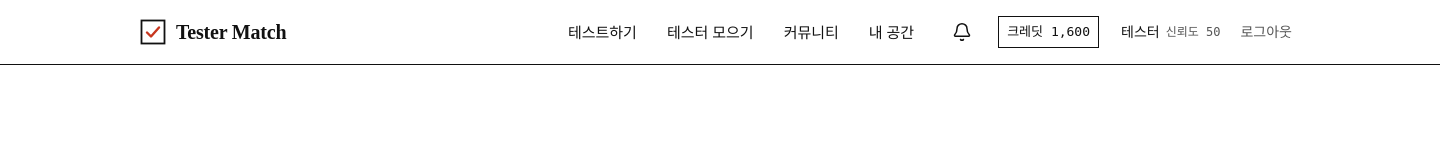
Test case: SiteHeader › second-level row timing › switches to another menu when the pointer rests on it
Hover over the link "내 공간" at (891, 32), box [869, 22, 914, 42]
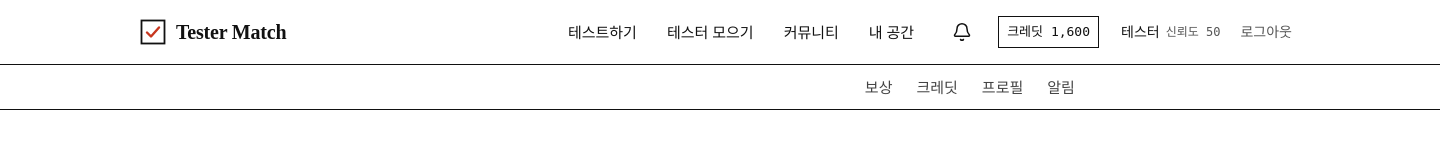
Hover over the link "커뮤니티" at (811, 32), box [784, 22, 839, 42]
Wait 200 ms
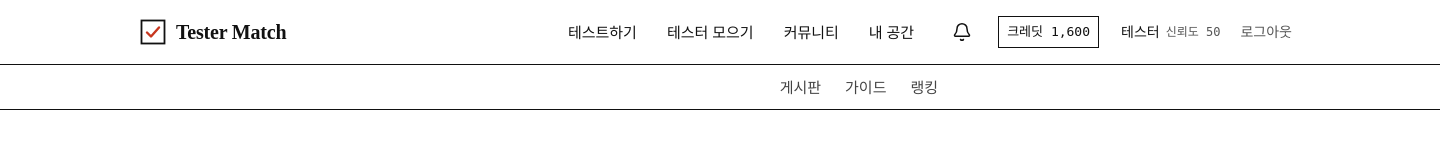
Expected: the navigation bar named "커뮤니티 메뉴" is shown, [0, 64, 1439, 109]
